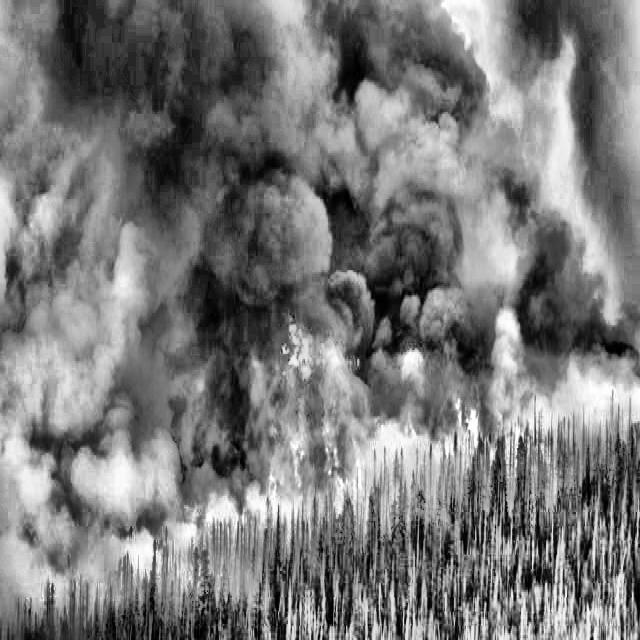fire: (170, 355, 598, 571)
